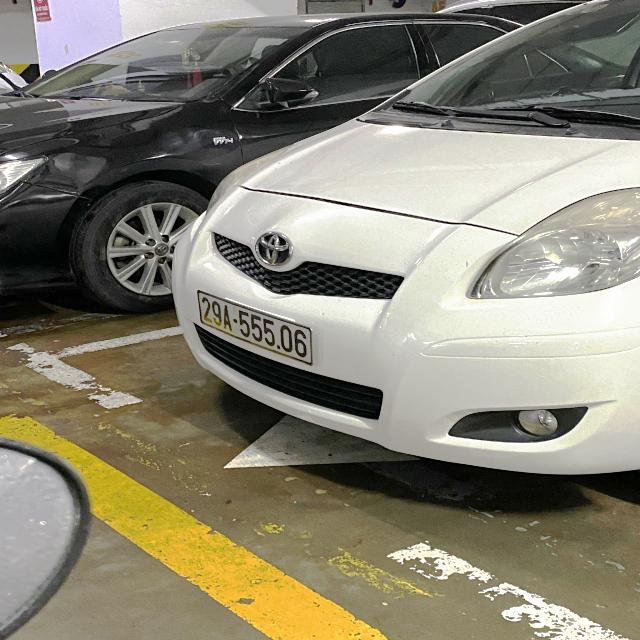license_plate: (195, 290, 315, 368)
